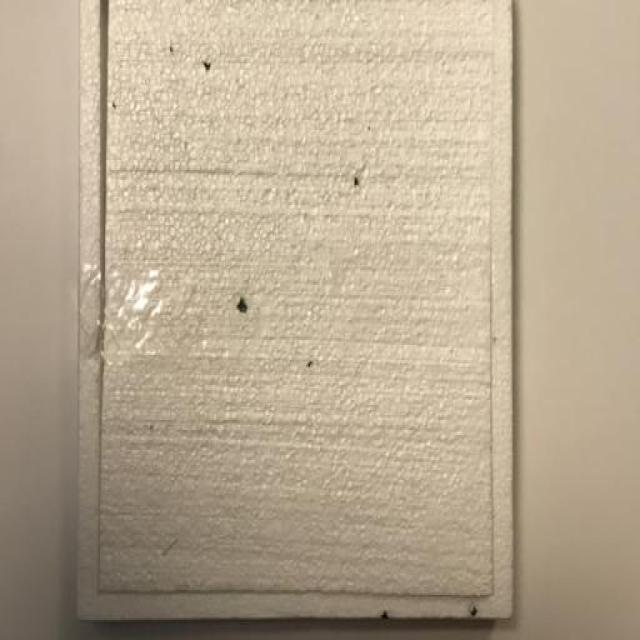Random Trash: (76, 0, 516, 623)
